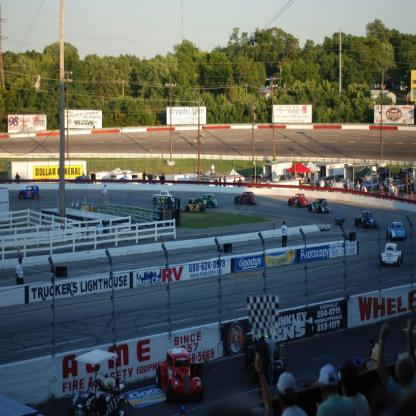Car: (155, 347, 202, 403), (247, 336, 283, 388), (314, 178, 405, 190), (380, 243, 402, 269), (387, 222, 407, 243), (308, 194, 330, 212), (234, 190, 258, 205), (152, 188, 174, 204), (287, 192, 307, 207), (355, 212, 375, 227), (17, 185, 40, 198), (182, 198, 205, 211), (200, 194, 217, 207)
